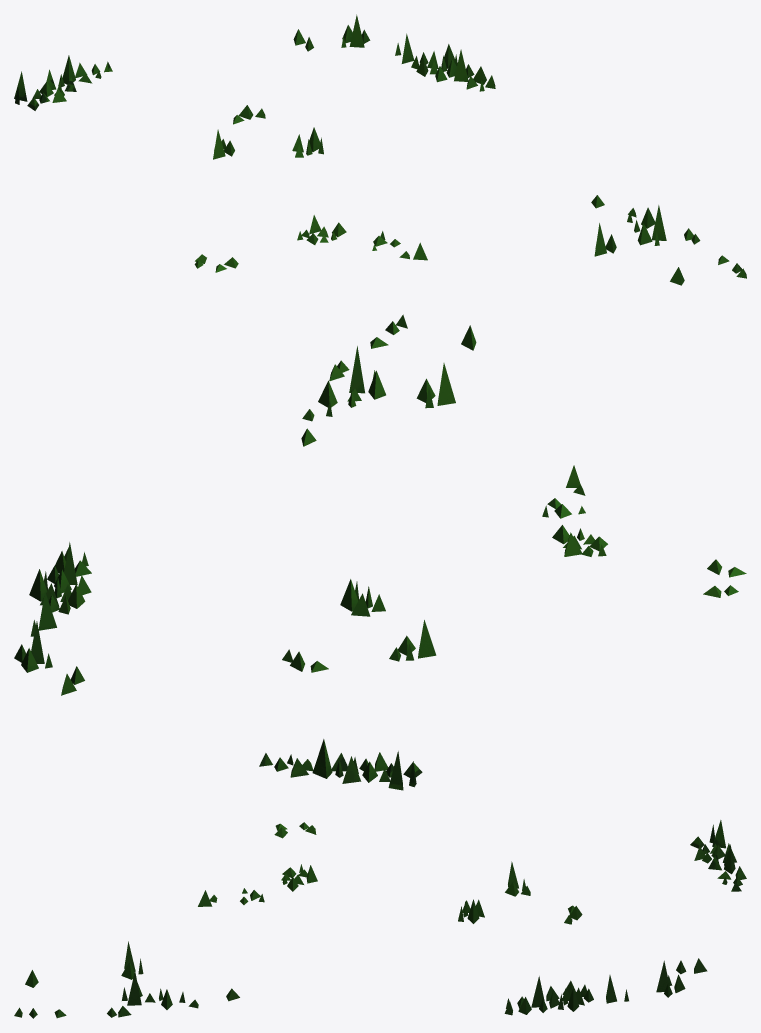
File: Plant_01.FBX
3 views of the same model, one above another, from view 1: azimuth 30°, elevation 25°; view 2: azimuth 150°, elevation 25°; view 3: azimuth 270°, elevation 25° (orthographic). The views are drawn at different scales.
Parts seen in each view (by area): view 1: Plant_01; view 2: Plant_01; view 3: Plant_01.
Part boxes in pixels (x1,y1,x2,y2): Plant_01: (14,14,746,285); Plant_01: (14,314,746,790); Plant_01: (14,820,746,1018).
Bounding box in the file's own units: 12.53 × 1.02 × 20.14.
